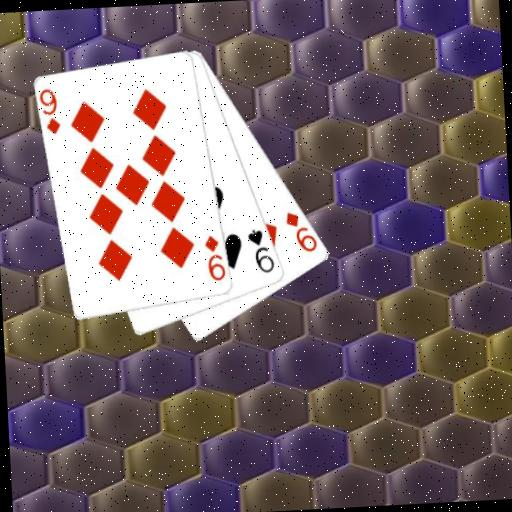9D: (282, 207, 320, 255), (202, 232, 228, 284), (38, 85, 64, 137)
9S: (244, 225, 277, 276)
